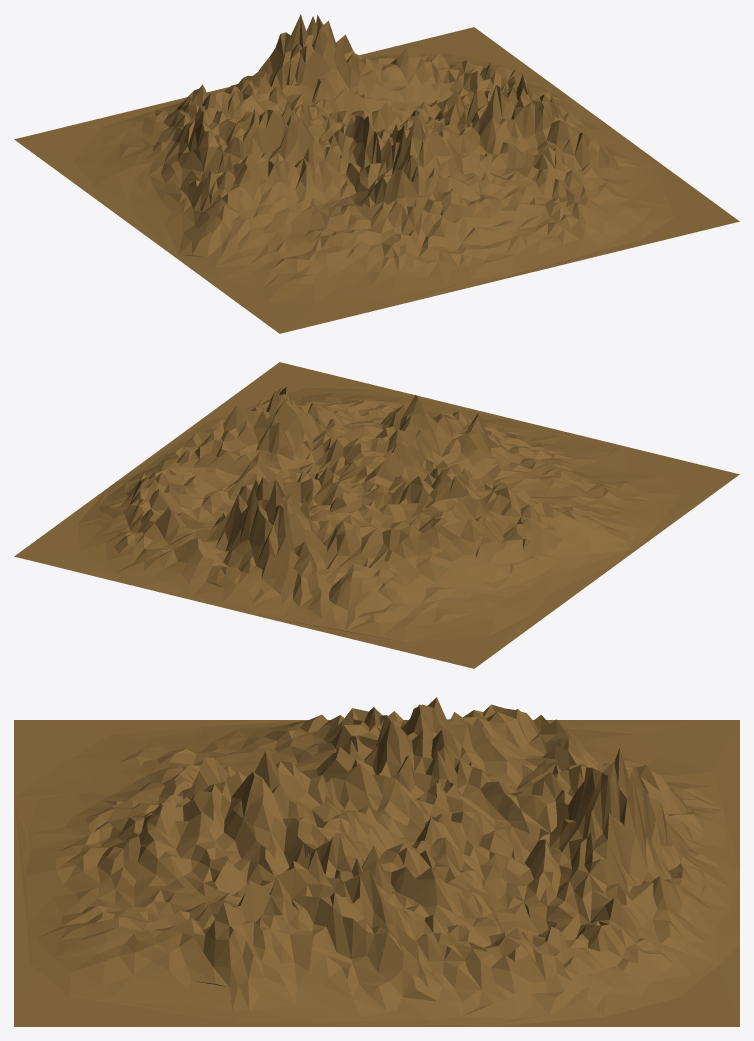
File: Terrain_17.fbx
The picture shows the model from 3 angles, top to bottom: view 1: azimuth 30°, elevation 25°; view 2: azimuth 150°, elevation 25°; view 3: azimuth 270°, elevation 25°; orthographic projection. The views are drawn at different scales.
Visible parts, largest first — view 1: Terrain_17; view 2: Terrain_17; view 3: Terrain_17.
Boxes of the visible parts, box(x1,y1,x2,y2) form: Terrain_17: box(14, 14, 739, 333); Terrain_17: box(14, 362, 739, 668); Terrain_17: box(14, 697, 739, 1026).
Size of the model in its own units: 20000 by 4088 by 20000.
